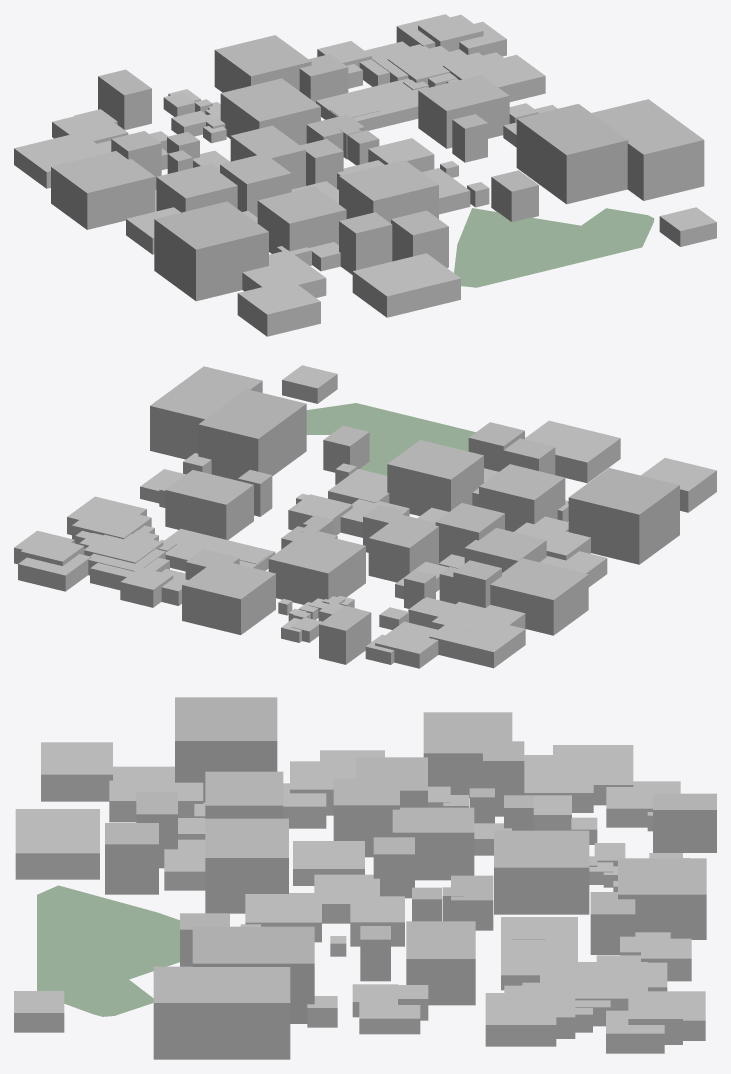
File: 111_95_mid.glb
3 renders of one model, top to bottom at view 1: azimuth 30°, elevation 25°; view 2: azimuth 150°, elevation 25°; view 3: azimuth 270°, elevation 25°, orthographic. The views are drawn at different scales.
Bounding box in the file's own units: 556 × 56.12 × 544.
